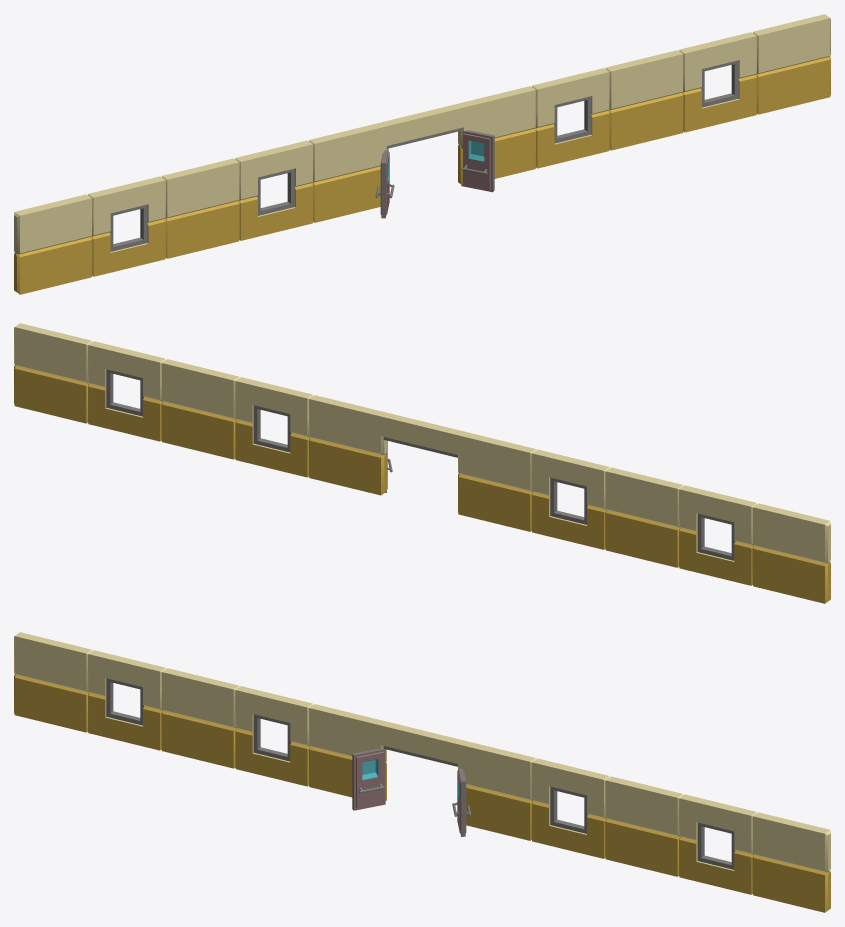
The model's file is DUVARLAR (1).fbx.
The picture shows the model from 3 angles, top to bottom: view 1: azimuth 30°, elevation 25°; view 2: azimuth 150°, elevation 25°; view 3: azimuth 330°, elevation 25°; orthographic projection.
Visible parts, largest first — view 1: DUVAR.008, DUVAR.005, DUVAR.010, DUVAR.007, DUVAR.001, CAM, CAM.003, CAM.001, CAM.002, DUVAR.003, KAPI DUVAR, KAPI; view 2: DUVAR.008, DUVAR.005, DUVAR.010, DUVAR.007, CAM, CAM.003, CAM.001, CAM.002, DUVAR.003, KAPI DUVAR, DUVAR.001; view 3: DUVAR.007, DUVAR.010, DUVAR.005, DUVAR.008, DUVAR.003, CAM.001, CAM.002, CAM, CAM.003, DUVAR.001, KAPI DUVAR, KAPI.
Boxes of the visible parts, <box> form: DUVAR.008: <box>14,194,92,294</box>; DUVAR.005: <box>605,50,683,150</box>; DUVAR.010: <box>161,158,239,258</box>; DUVAR.007: <box>753,14,830,114</box>; DUVAR.001: <box>309,123,386,222</box>; CAM: <box>235,140,313,240</box>; CAM.003: <box>679,32,756,132</box>; CAM.001: <box>532,68,609,168</box>; CAM.002: <box>88,176,165,276</box>; DUVAR.003: <box>458,86,535,185</box>; KAPI DUVAR: <box>358,97,490,180</box>; KAPI: <box>375,130,494,218</box>; DUVAR.008: <box>752,503,830,603</box>; DUVAR.005: <box>161,359,239,459</box>; DUVAR.010: <box>605,467,683,567</box>; DUVAR.007: <box>14,323,91,423</box>; CAM: <box>531,449,609,549</box>; CAM.003: <box>88,341,165,441</box>; CAM.001: <box>235,377,312,477</box>; CAM.002: <box>679,485,756,585</box>; DUVAR.003: <box>309,395,386,495</box>; KAPI DUVAR: <box>354,410,487,520</box>; DUVAR.001: <box>458,431,535,531</box>; DUVAR.007: <box>752,812,830,912</box>; DUVAR.010: <box>161,668,239,768</box>; DUVAR.005: <box>605,776,683,876</box>; DUVAR.008: <box>14,632,91,732</box>; DUVAR.003: <box>458,740,535,840</box>; CAM.001: <box>531,758,609,858</box>; CAM.002: <box>88,650,165,750</box>; CAM: <box>235,686,312,786</box>; CAM.003: <box>679,794,756,894</box>; DUVAR.001: <box>309,704,386,800</box>; KAPI DUVAR: <box>360,715,485,819</box>; KAPI: <box>352,748,471,836</box>.
Size of the model in its own units: 4310 by 400 by 172.
